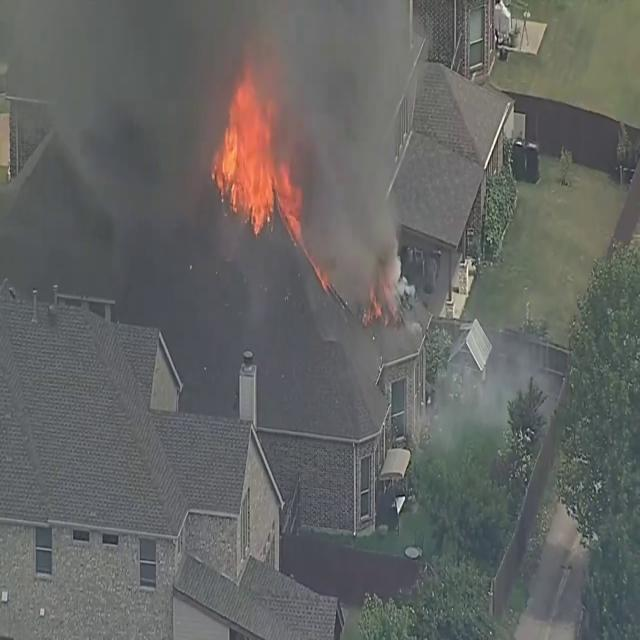Fire: (212, 61, 300, 236)
Smoke: (282, 2, 415, 304)
